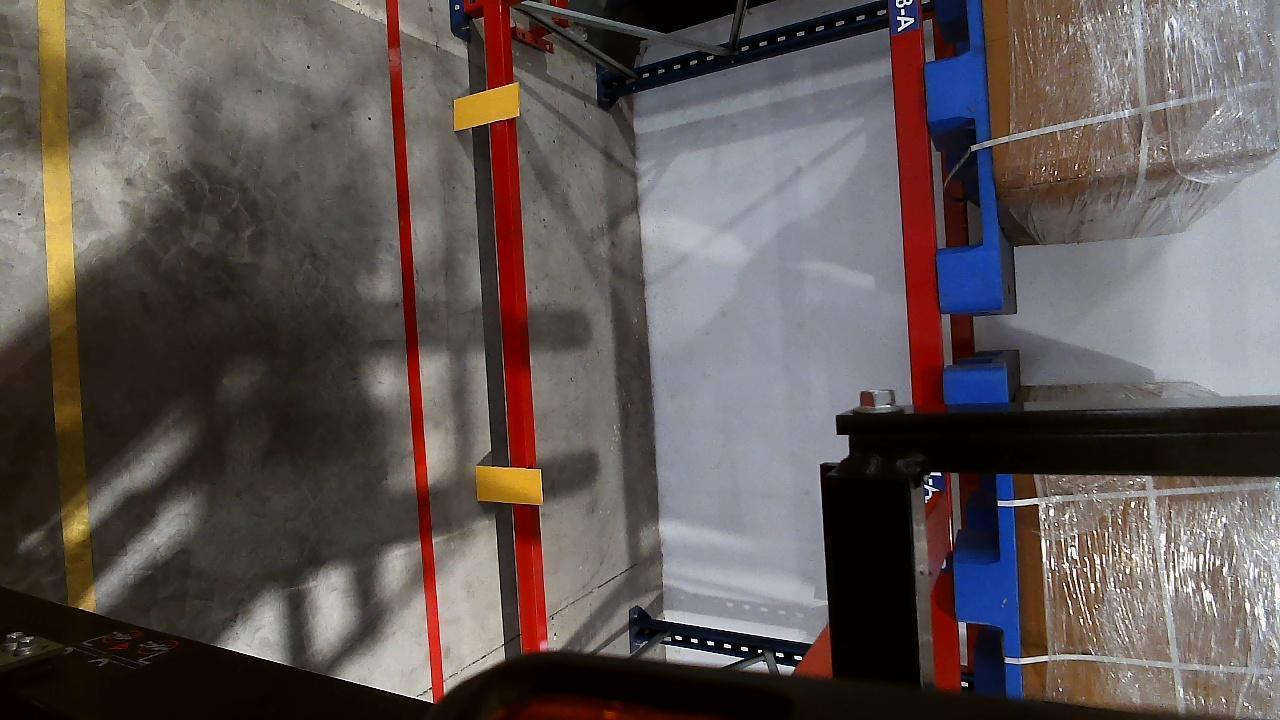red_line: (375, 0, 447, 694)
yellow_line: (22, 0, 98, 607)
